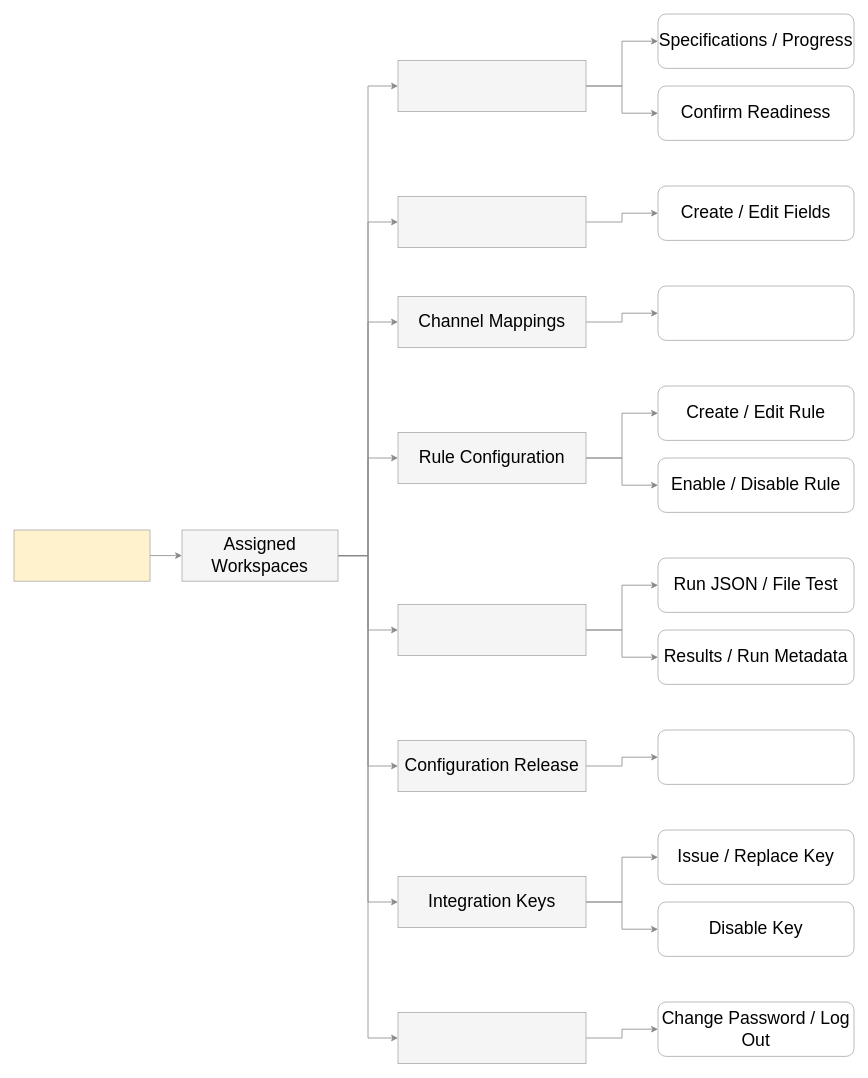
This 868x1078 diagram has some shape labels left out. The centre of each missing label's shape, as x and y in pixels:
Account: (491,1038)
Field Definitions: (491,222)
Onboarding Details: (491,86)
Platform Login: (81,555)
REST / Webhook / File: (755,312)
Review Draft / Apply Version: (755,756)
Sample Testing: (491,630)
